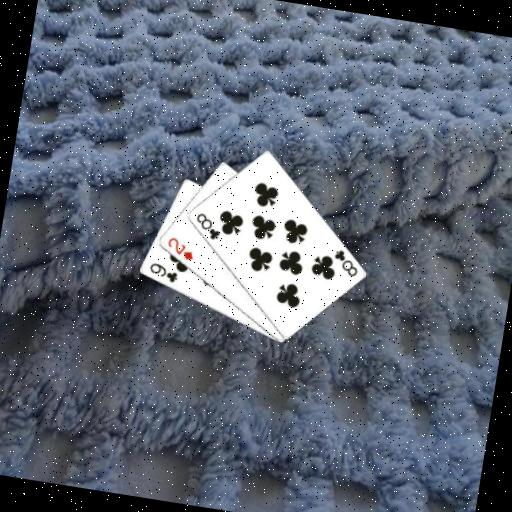2D: (162, 233, 197, 262)
8C: (190, 209, 225, 242), (327, 246, 361, 279)
9C: (144, 258, 181, 285)
